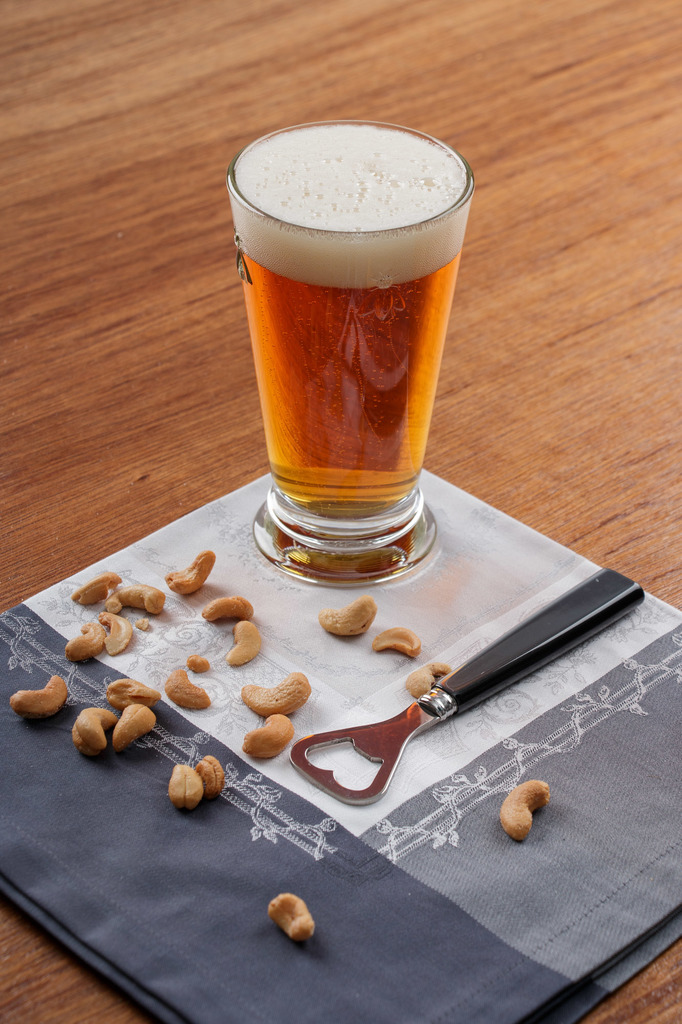Beer: (227, 115, 481, 589)
